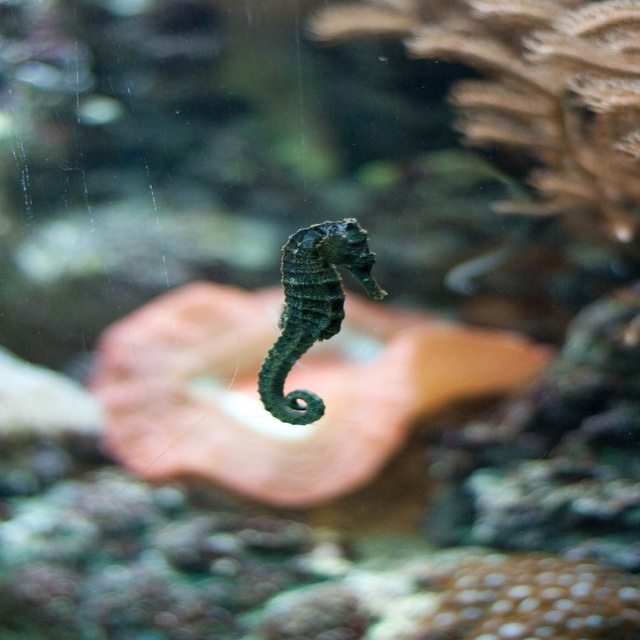Seahorse: (256, 218, 388, 425)
